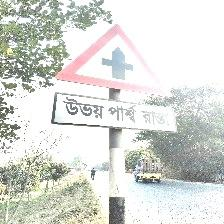Crossroad: (51, 23, 176, 133)
